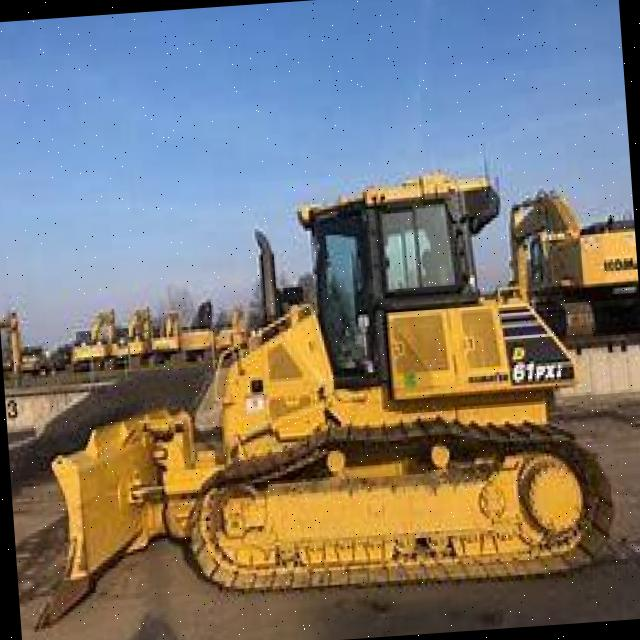Bulldozer: (2, 138, 640, 620)
